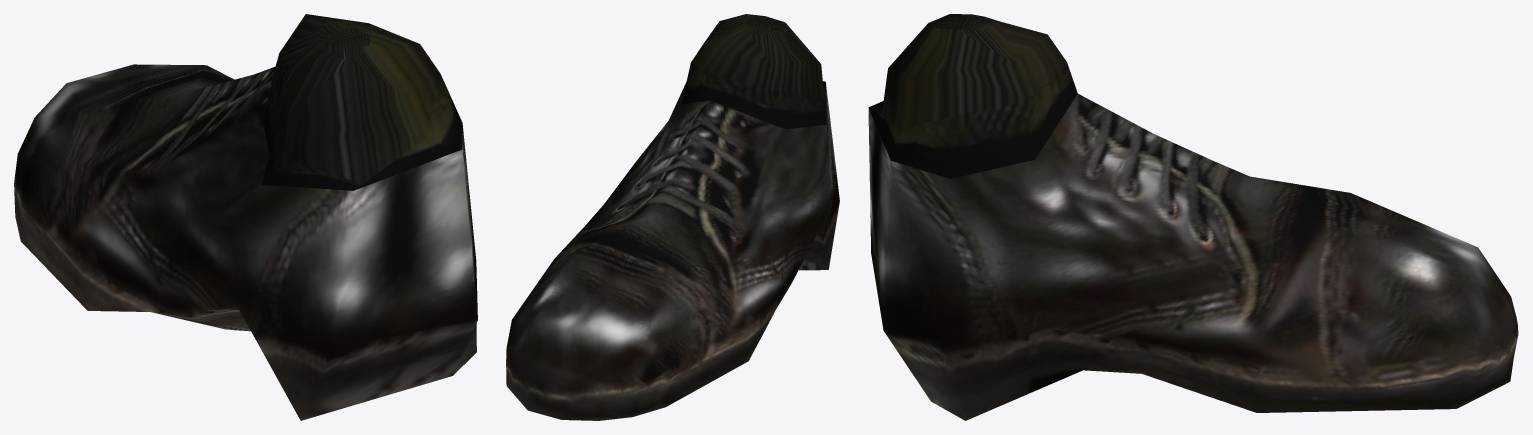
Rendered from LeftFoot.dae.
3 renders of one model, left to right at view 1: azimuth 30°, elevation 25°; view 2: azimuth 150°, elevation 25°; view 3: azimuth 270°, elevation 25°, orthographic. The views are drawn at different scales.
Visible parts, largest first — view 1: H_DDS_LowRes_006; view 2: H_DDS_LowRes_006; view 3: H_DDS_LowRes_006.
Boxes of the visible parts, x1,y1,x2,y2 form: H_DDS_LowRes_006: [14, 14, 477, 420]; H_DDS_LowRes_006: [506, 14, 839, 420]; H_DDS_LowRes_006: [868, 14, 1518, 420].
Size of the model in its own units: 0.1117 by 0.2532 by 0.1471.
Materials: 1 (1 with a texture image).
